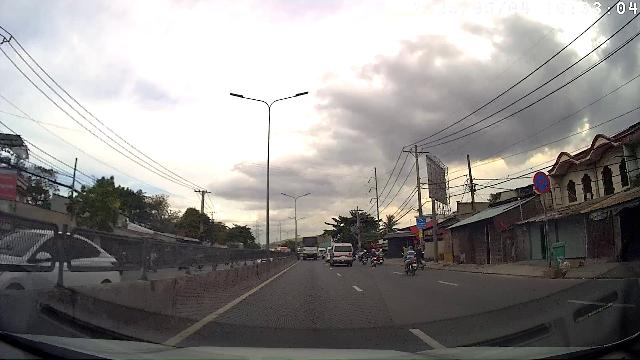130-cam-dung-va-do-xe: (533, 171, 551, 194)
